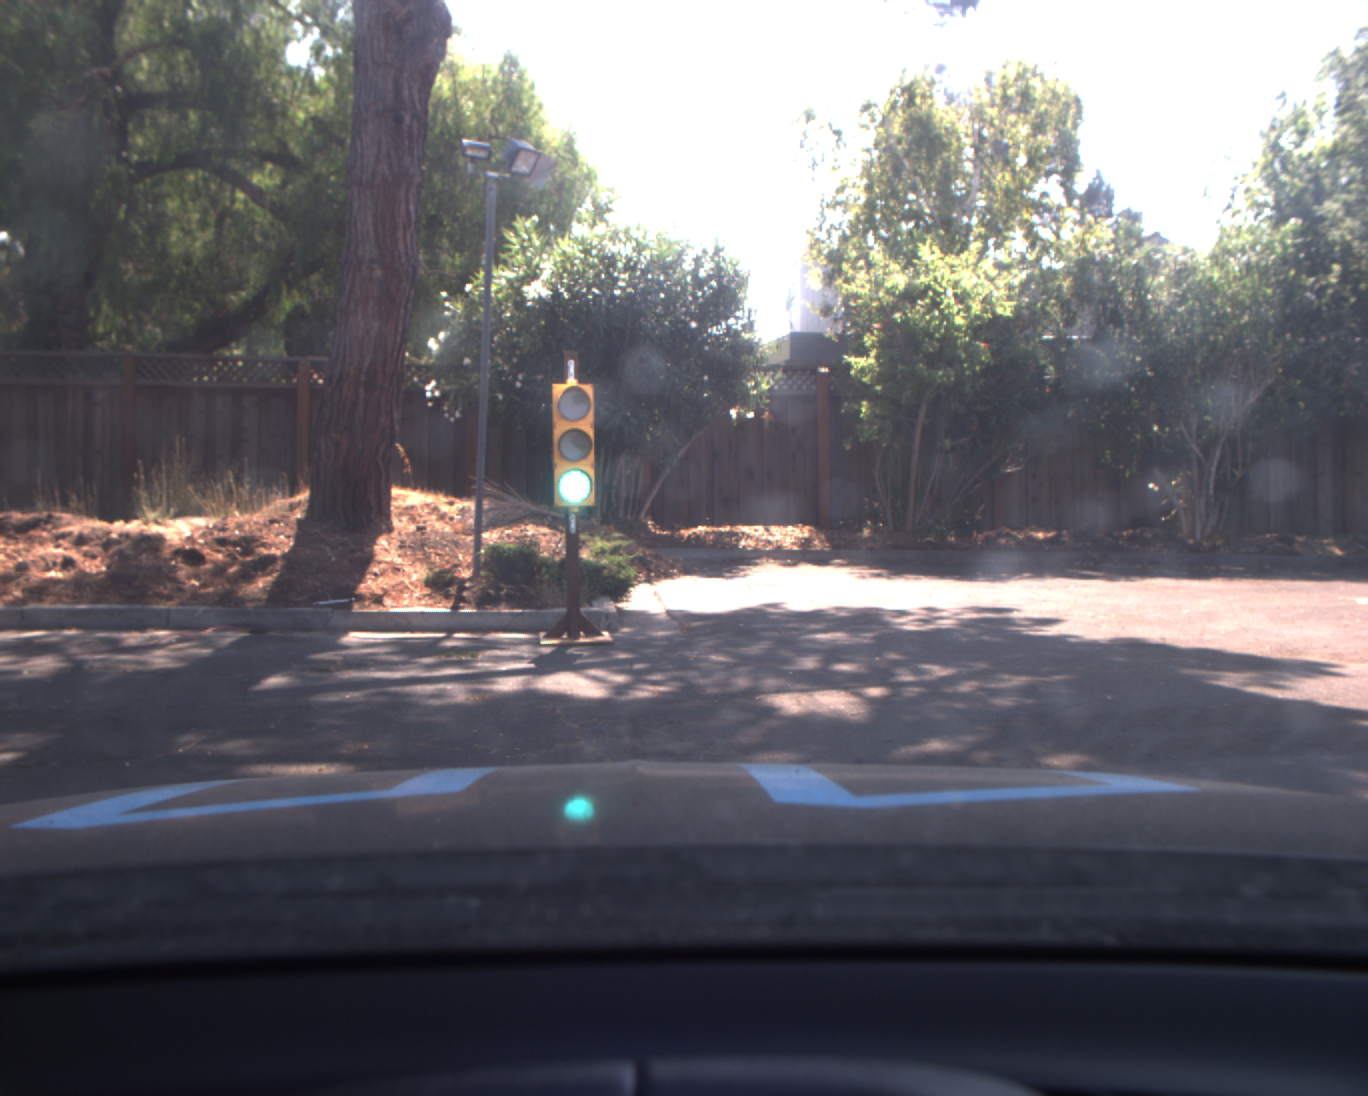green: (550, 380, 598, 507)
